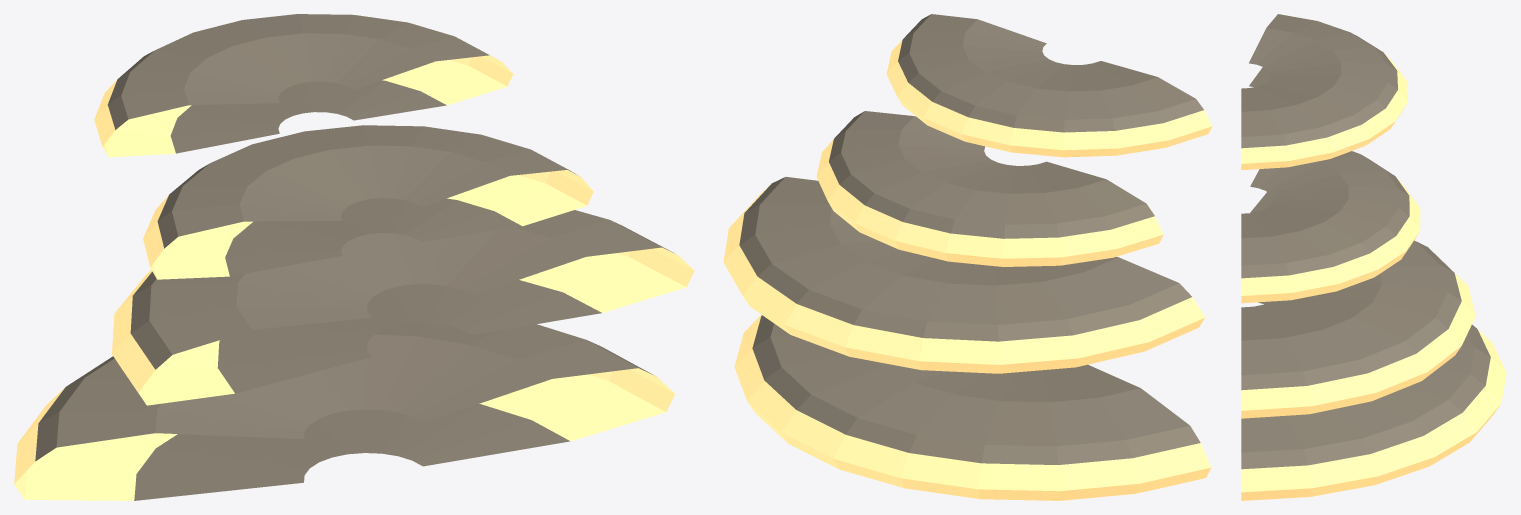
Rendered from shelf_v03.glb.
The picture shows the model from 3 angles, left to right: view 1: azimuth 30°, elevation 25°; view 2: azimuth 150°, elevation 25°; view 3: azimuth 270°, elevation 25°; orthographic projection. The views are drawn at different scales.
Visible parts, largest first — view 1: mushroom_shelf_flesh_nocol, mushroom_shelf_glow_nocol; view 2: mushroom_shelf_flesh_nocol, mushroom_shelf_glow_nocol; view 3: mushroom_shelf_flesh_nocol, mushroom_shelf_glow_nocol.
Part boxes in pixels (x1,y1,x2,y2): mushroom_shelf_flesh_nocol: (35, 14, 674, 500); mushroom_shelf_glow_nocol: (14, 55, 694, 500); mushroom_shelf_flesh_nocol: (739, 14, 1203, 464); mushroom_shelf_glow_nocol: (723, 40, 1212, 500); mushroom_shelf_flesh_nocol: (1241, 14, 1490, 469); mushroom_shelf_glow_nocol: (1241, 53, 1506, 500).
Bounding box in the file's own units: 1.85 × 1.2 × 0.9363.
